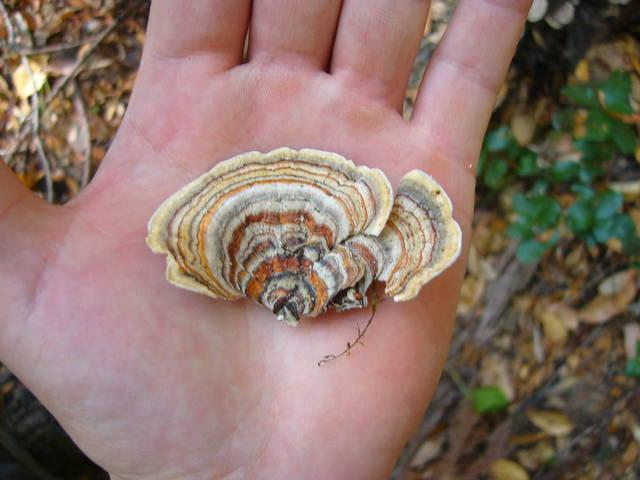poisonous_mushroom: (144, 145, 463, 327)
